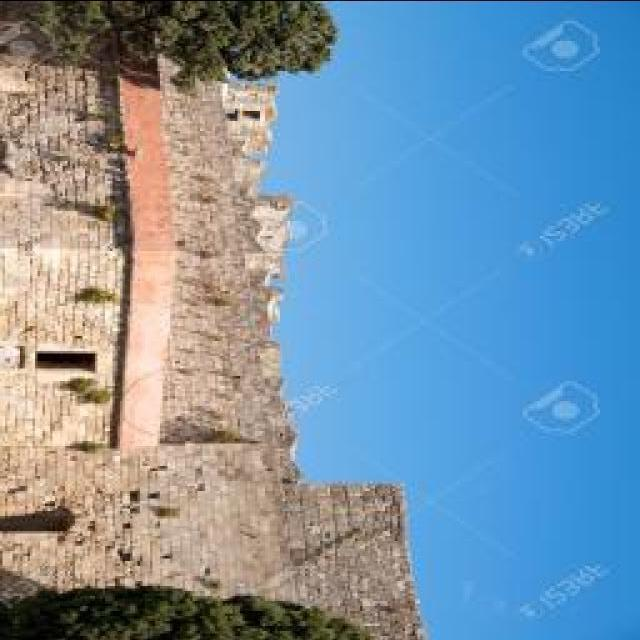corrosion: (0, 2, 428, 638)
crack: (59, 241, 121, 317)
dampness: (0, 216, 123, 455), (161, 72, 261, 266), (0, 61, 119, 214), (1, 481, 112, 599), (71, 471, 188, 581)
vegetation: (14, 0, 340, 91), (0, 583, 378, 639), (22, 0, 125, 69)
